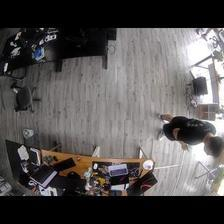normal: (157, 114, 224, 155)
